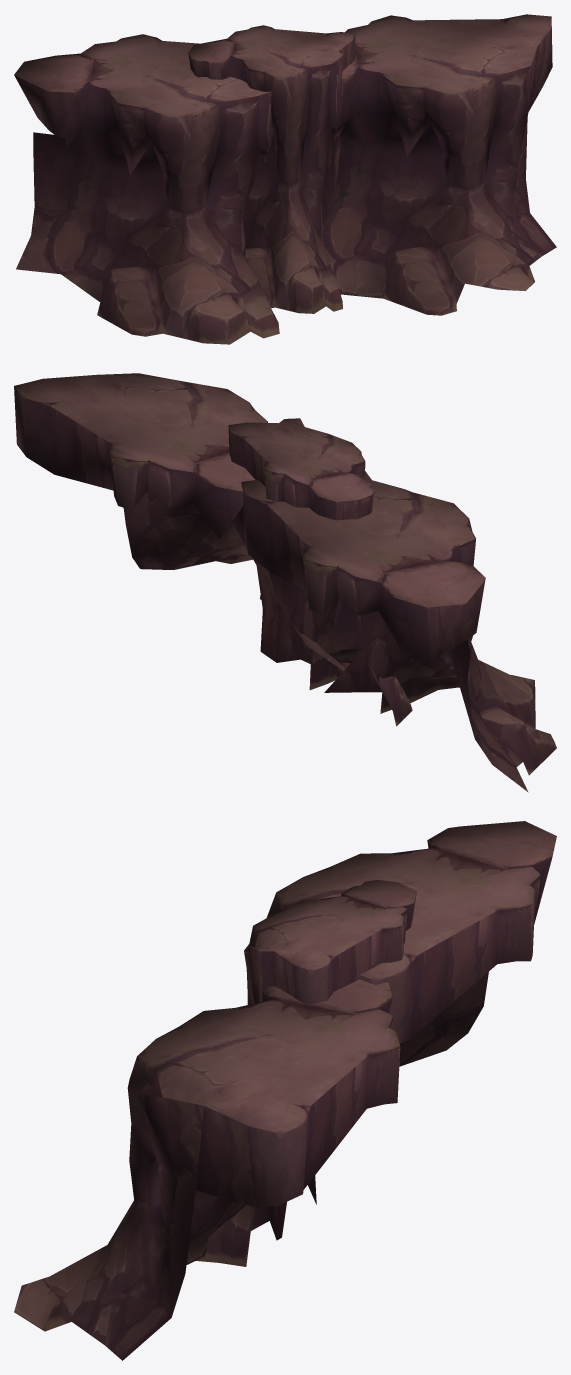
The model's file is huoshan_1.FBX.
3 views of the same model, one above another, from view 1: azimuth 30°, elevation 25°; view 2: azimuth 150°, elevation 25°; view 3: azimuth 270°, elevation 25° (orthographic). The views are drawn at different scales.
Parts seen in each view (by area): view 1: huoshan_1; view 2: huoshan_1; view 3: huoshan_1.
Part boxes in pixels (left/top/right/bottom): huoshan_1: left=14, top=14, right=556, bottom=344; huoshan_1: left=14, top=373, right=556, bottom=792; huoshan_1: left=14, top=821, right=556, bottom=1360.
Bounding box in the file's own units: 1990 × 903 × 1332.
